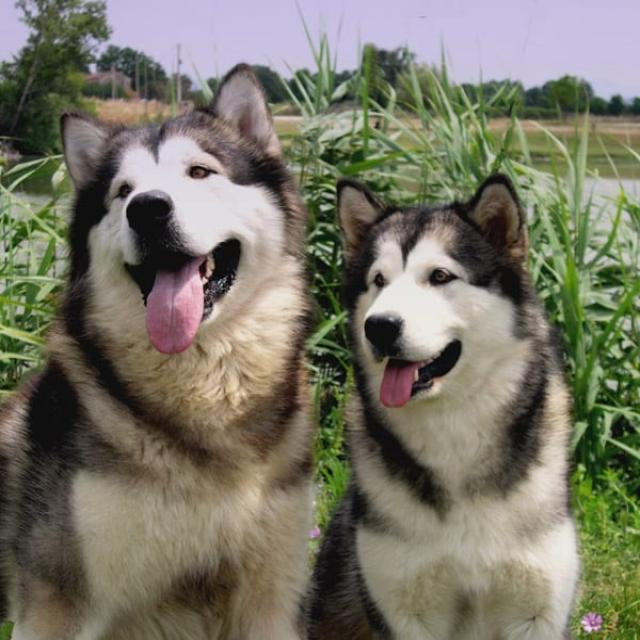ALASKAN_MALAMUTE: (0, 70, 324, 640), (308, 153, 595, 640)
